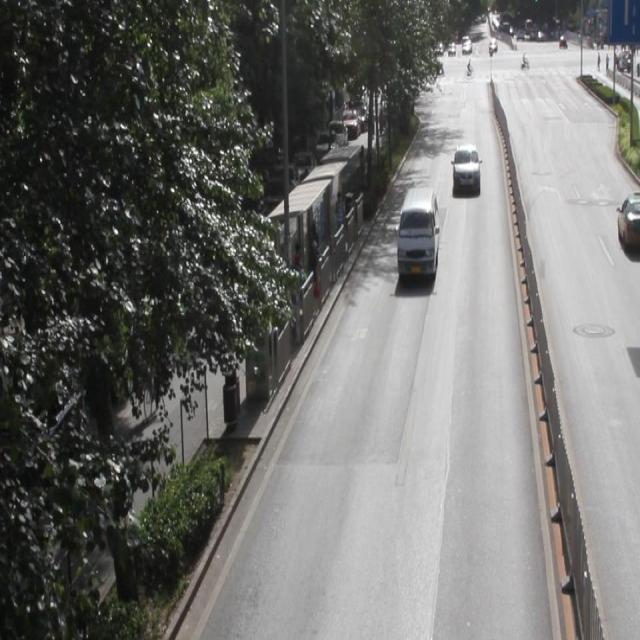car: (616, 195, 640, 252), (452, 142, 479, 192)
truck: (394, 189, 438, 274)
